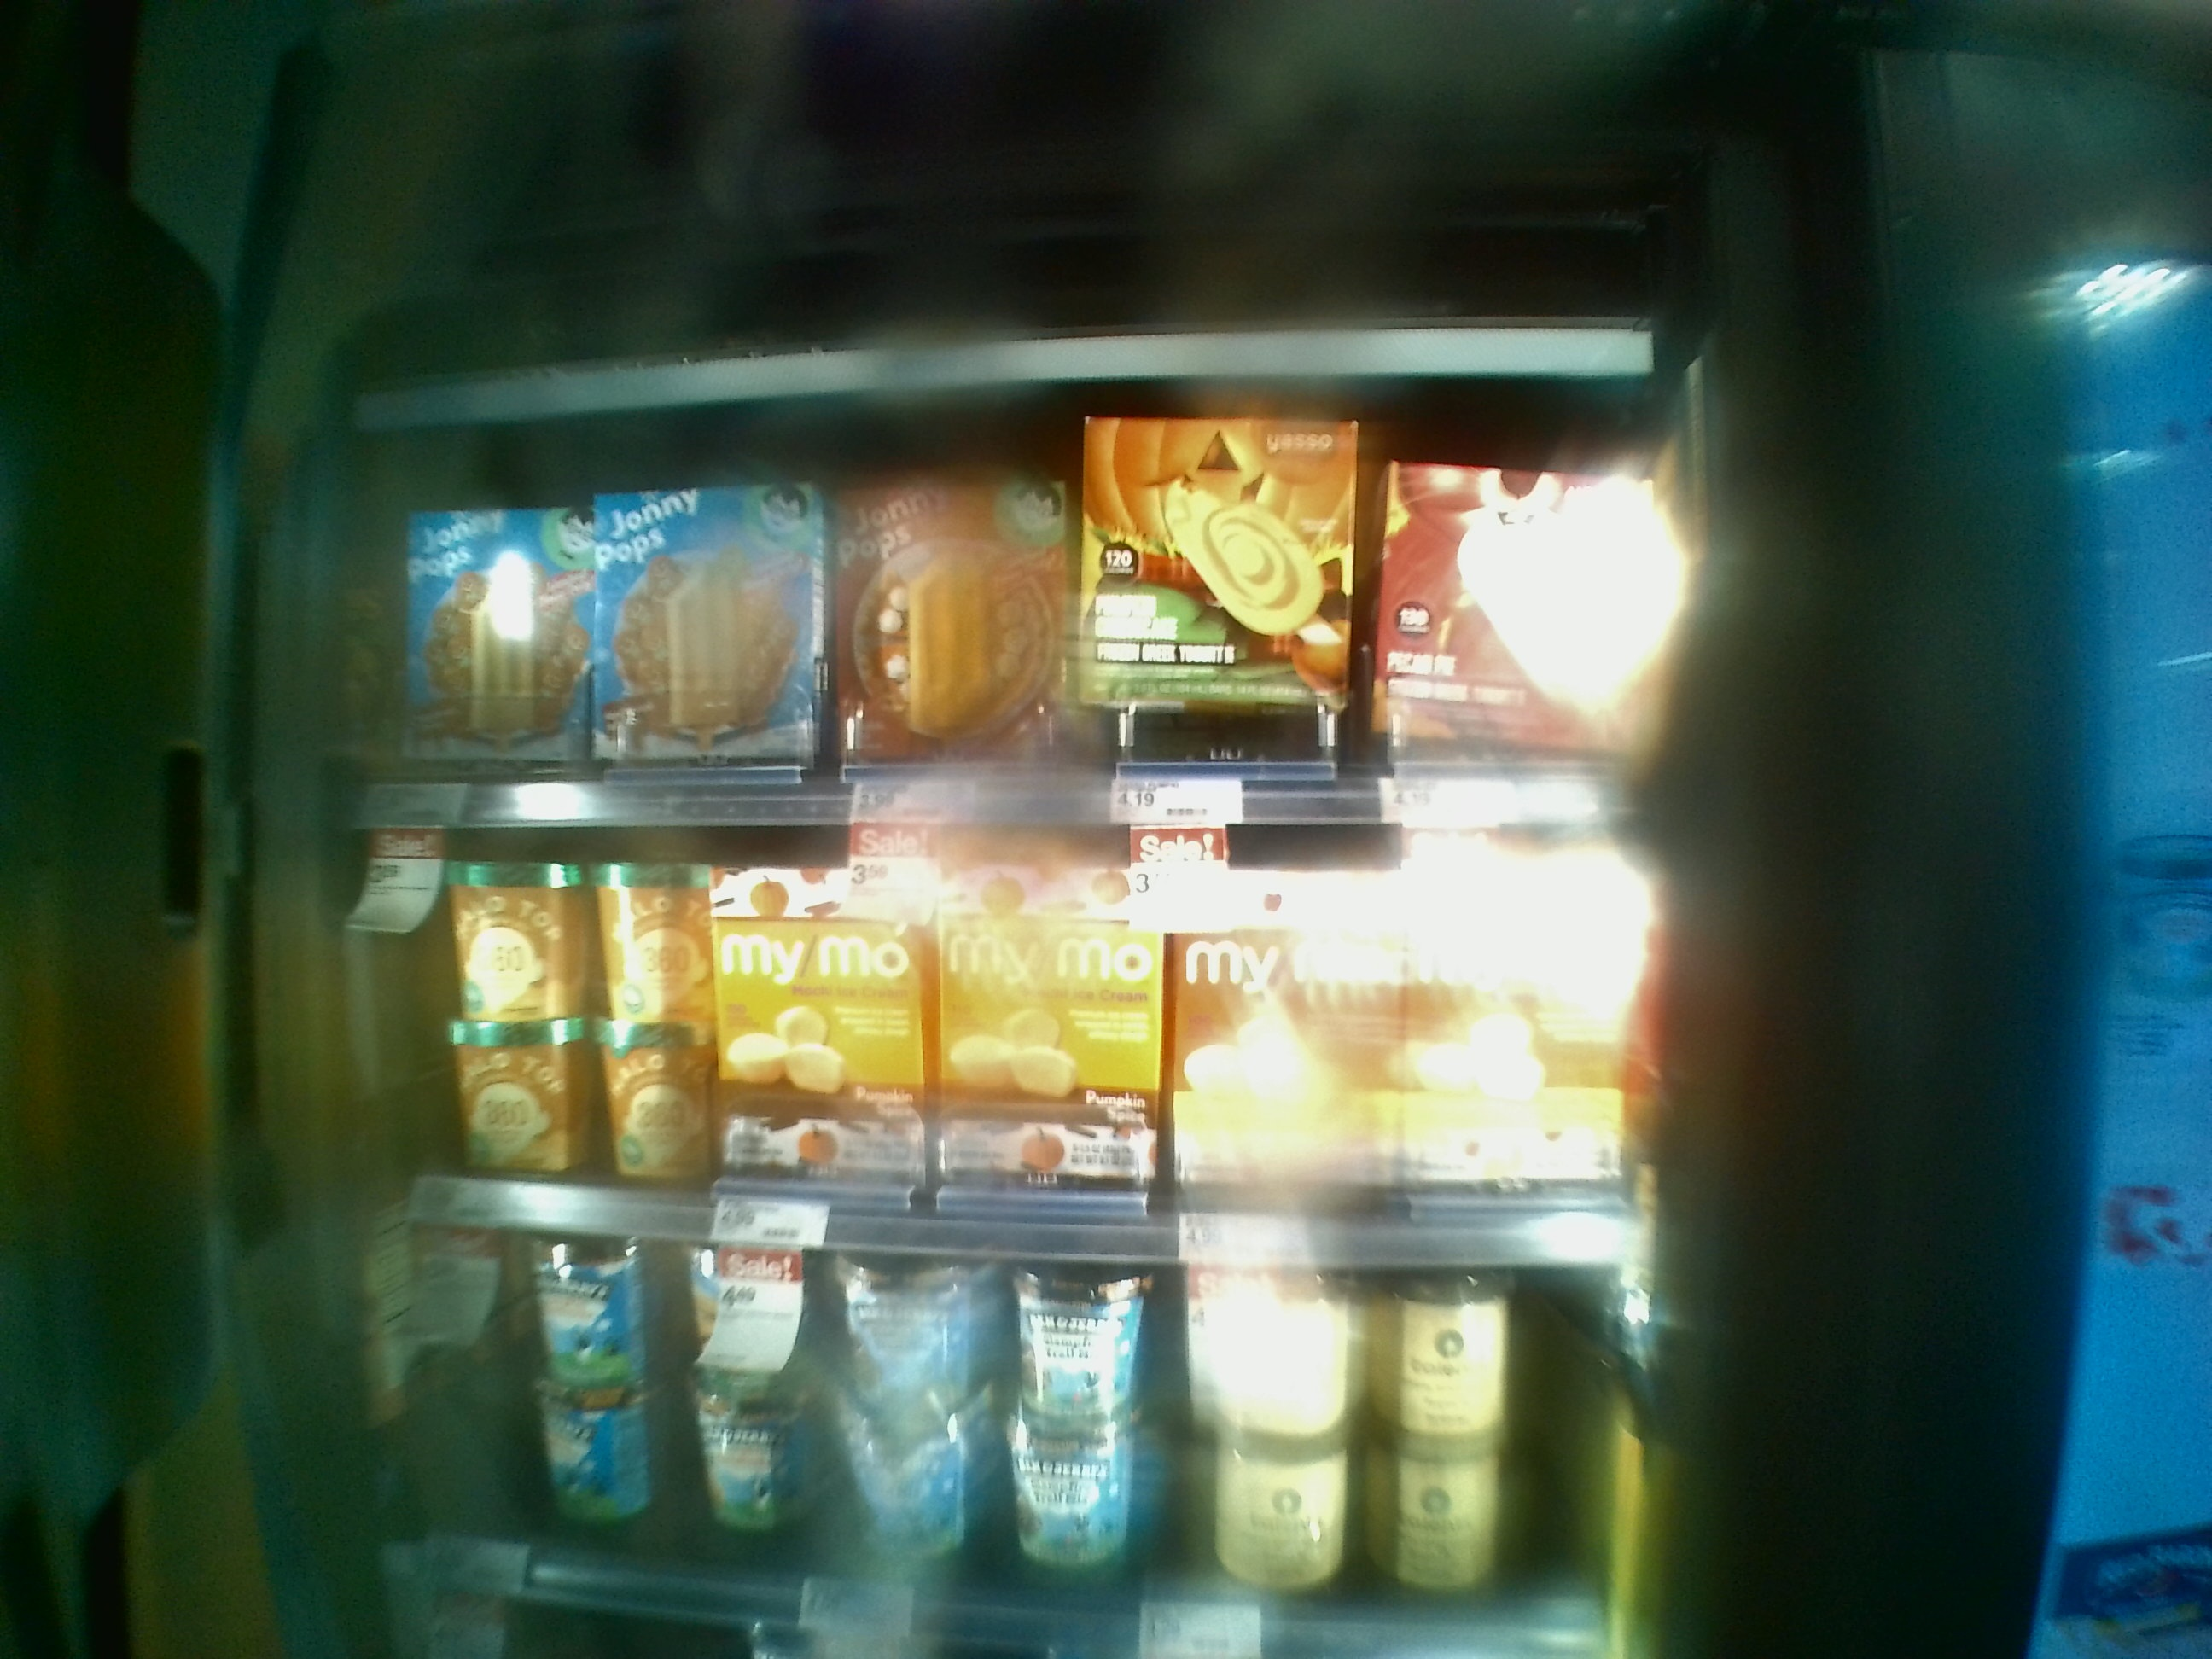shelf: (364, 817, 1658, 1256), (366, 439, 1684, 821)
